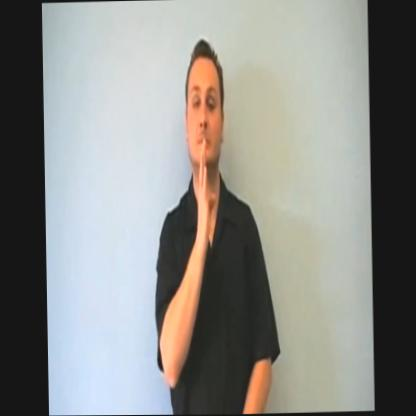Talk: (169, 18, 240, 268)
